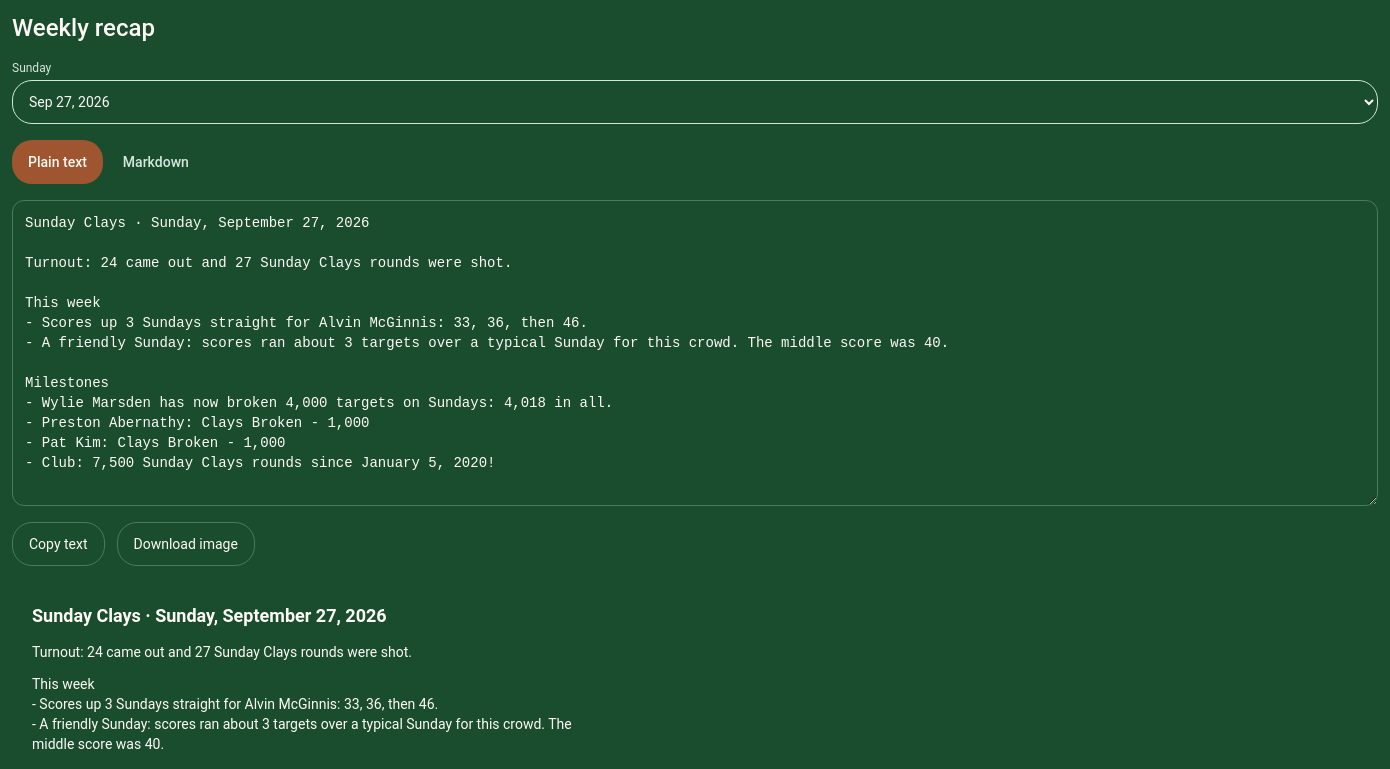
Test: RecapPage › downloads the image card with the dated file name
This screenshot has width=1390, height=769.
What coordinates should you click on to do the following:
click the button "Download image"
I would click on:
 (186, 544)
Its box is top-left (116, 522), bottom-right (255, 566).
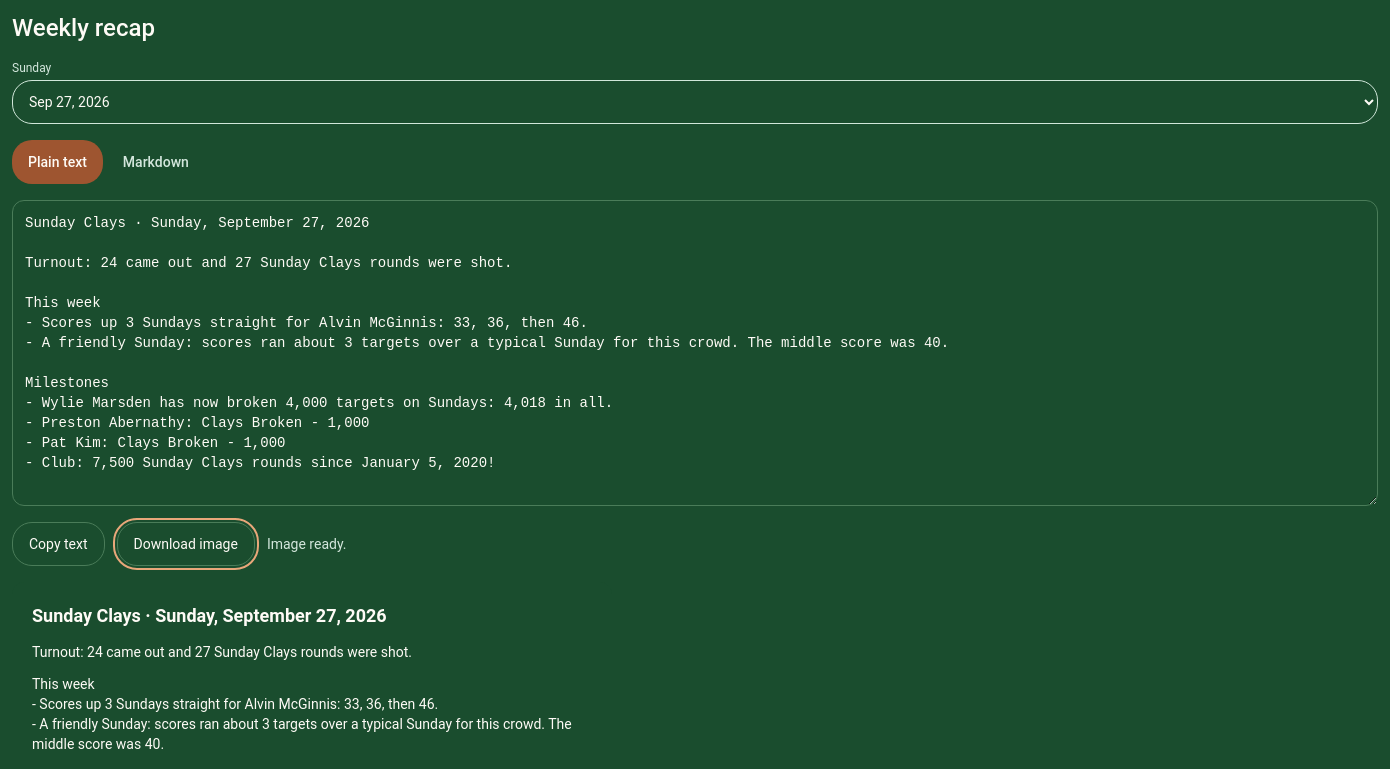
Now the text "Image ready." is shown, box top-left (267, 534), bottom-right (346, 554)
